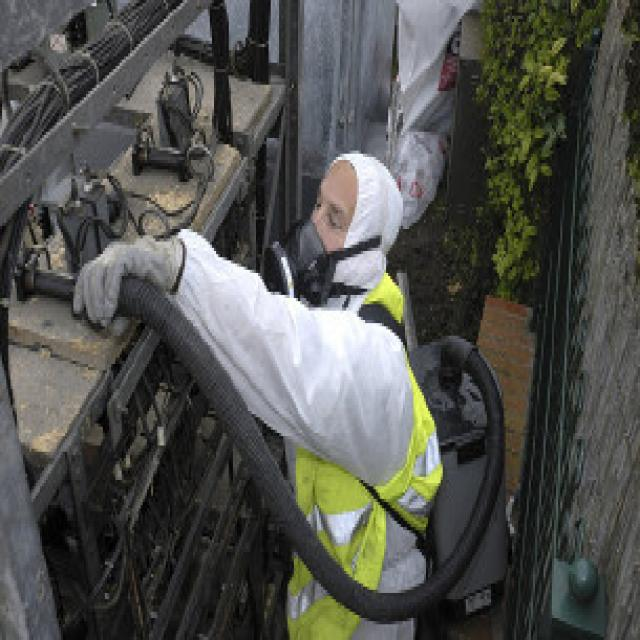mask: (302, 168, 353, 271)
